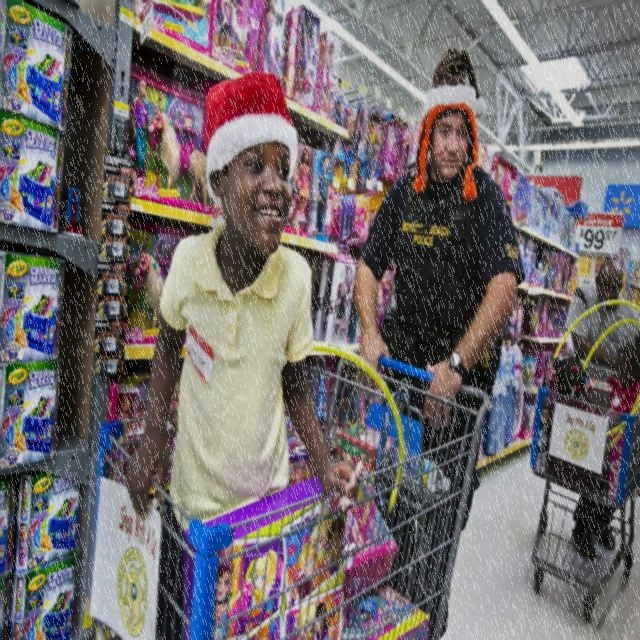pessoa: (121, 68, 368, 639), (348, 42, 530, 639), (185, 476, 418, 638), (476, 142, 580, 464), (563, 257, 639, 562), (210, 0, 344, 120), (316, 262, 394, 341), (342, 104, 412, 182), (292, 143, 338, 244), (602, 334, 640, 432), (126, 74, 154, 198), (108, 394, 134, 477), (340, 188, 372, 233)
